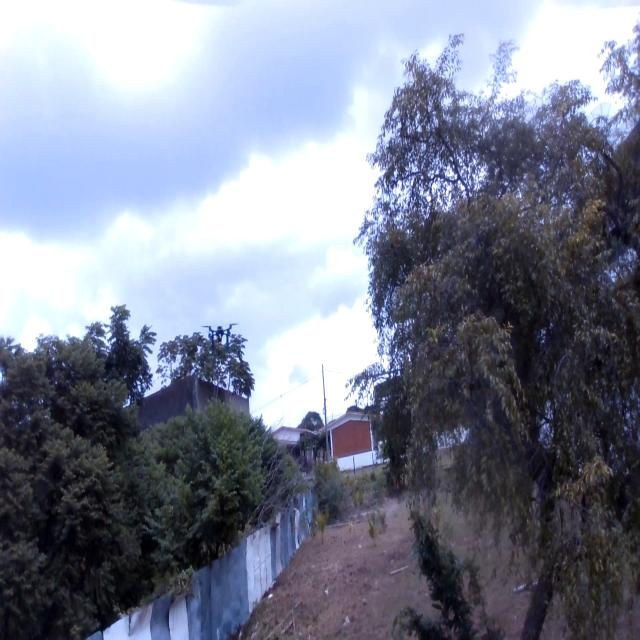-uav-: (199, 319, 241, 360)
